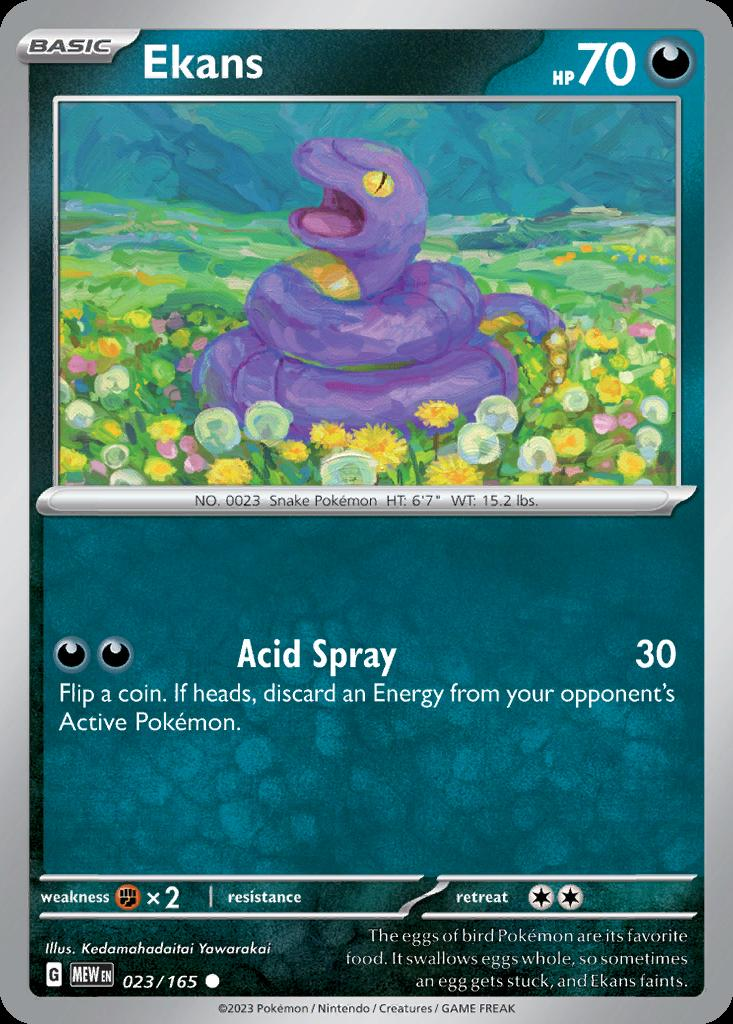card: (1, 0, 733, 1024)
hp: (527, 30, 709, 96)
name: (127, 31, 289, 91)
set num: (123, 966, 200, 997)
set symbol: (69, 960, 121, 994)
